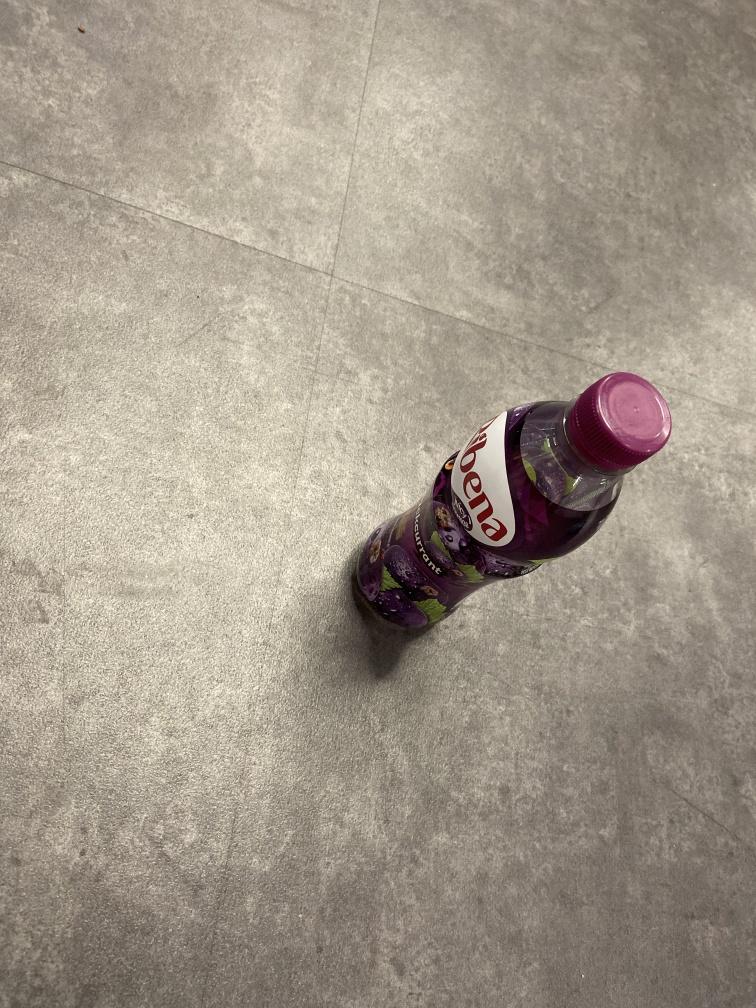bottle_purple: (348, 366, 676, 639)
